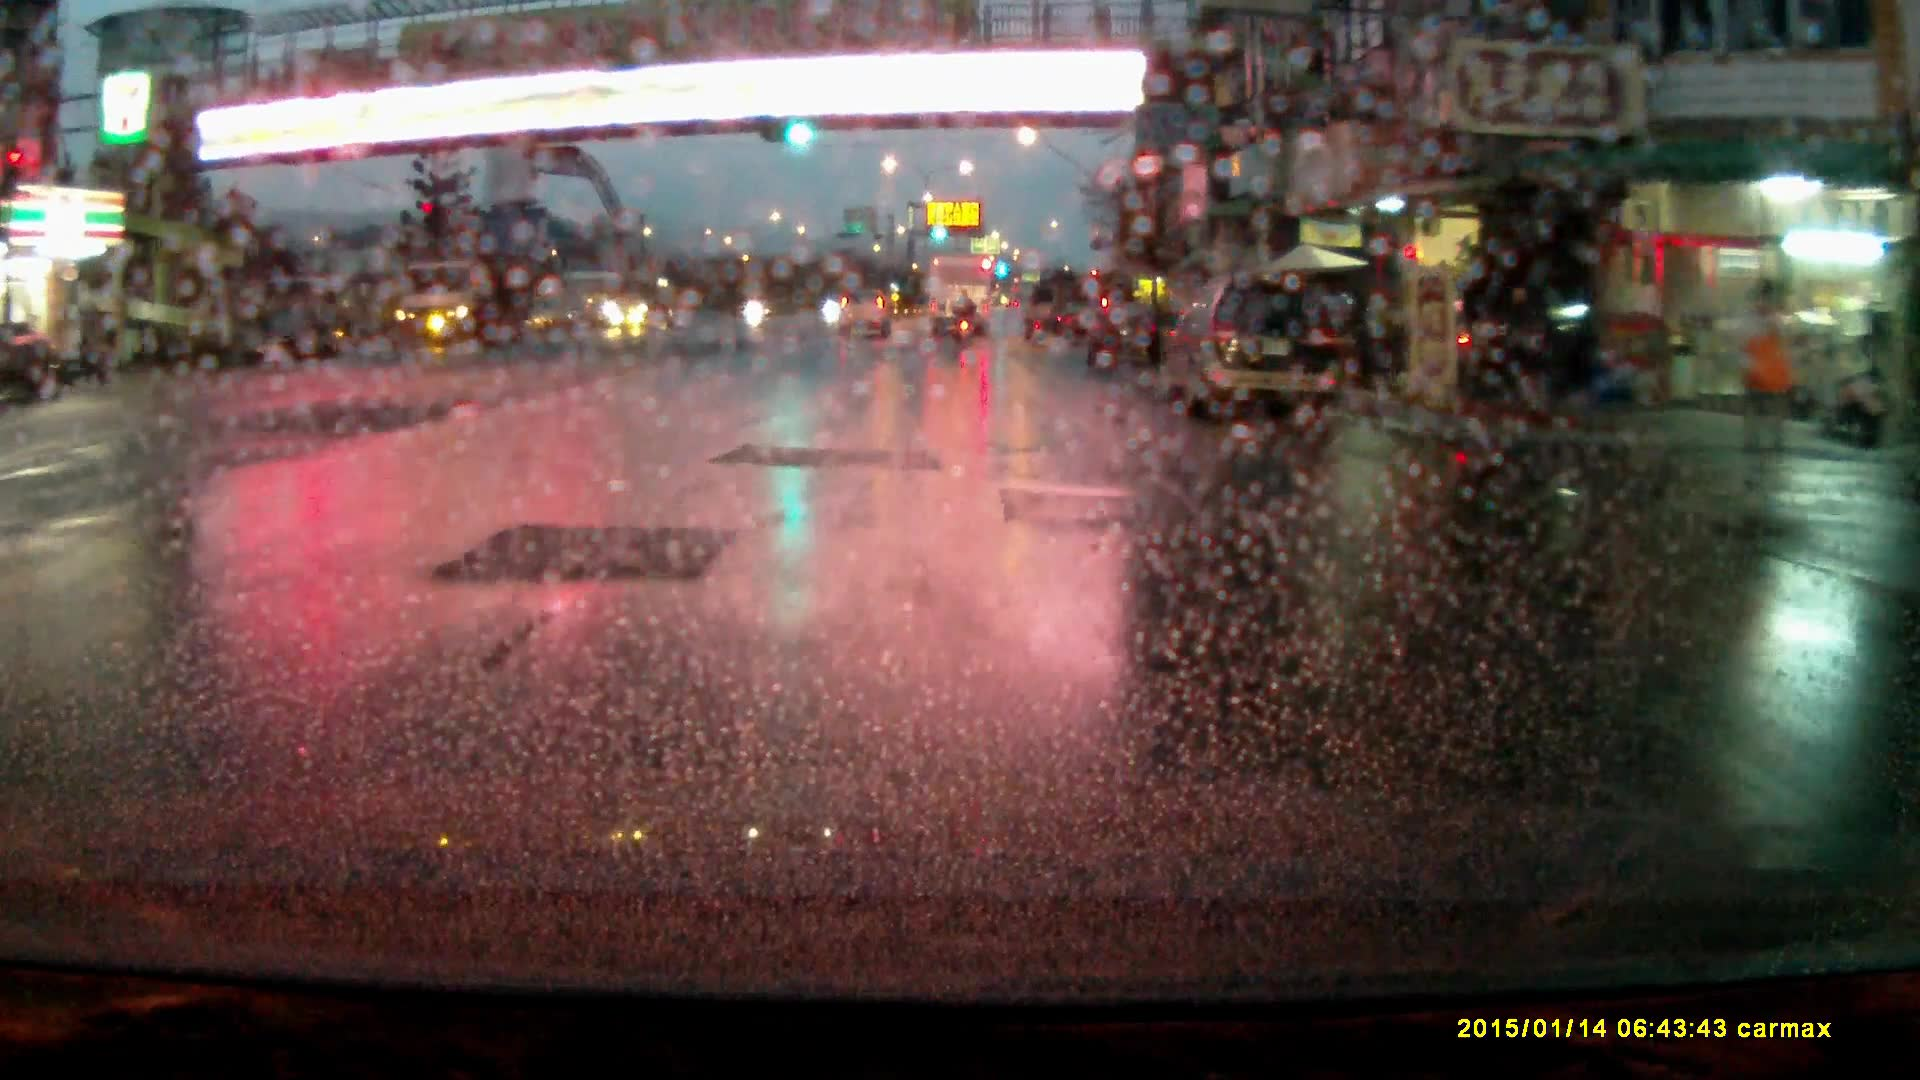pedestrian: (1725, 272, 1811, 497)
rider: (951, 292, 977, 352)
vehicle: (1164, 281, 1347, 420), (1466, 287, 1599, 396), (389, 257, 525, 349), (1, 319, 68, 408), (928, 256, 993, 335), (1088, 309, 1165, 369), (609, 281, 681, 337), (839, 294, 895, 343)
